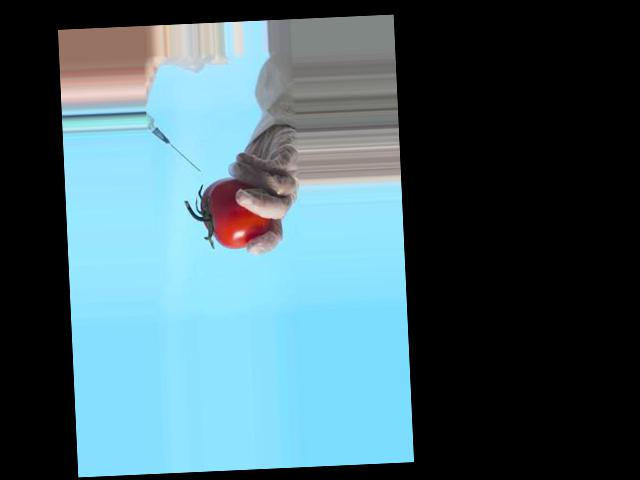tomato: (200, 177, 272, 250)
